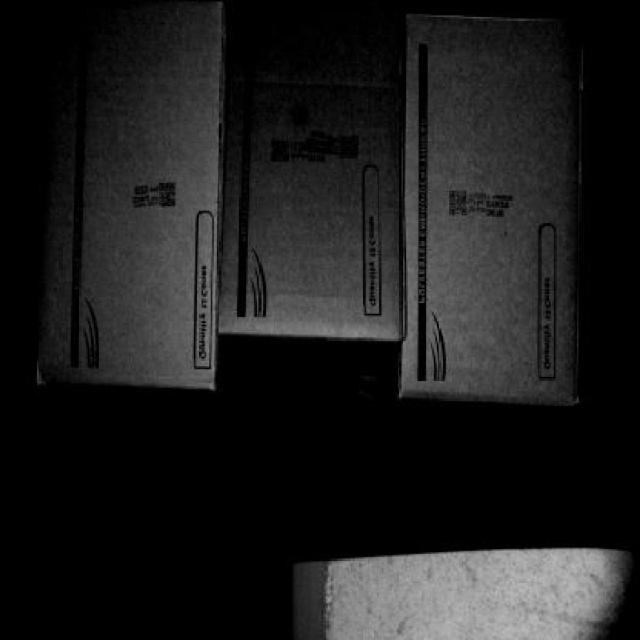cardboxes: (402, 8, 581, 410), (38, 6, 216, 385), (220, 13, 398, 330)
